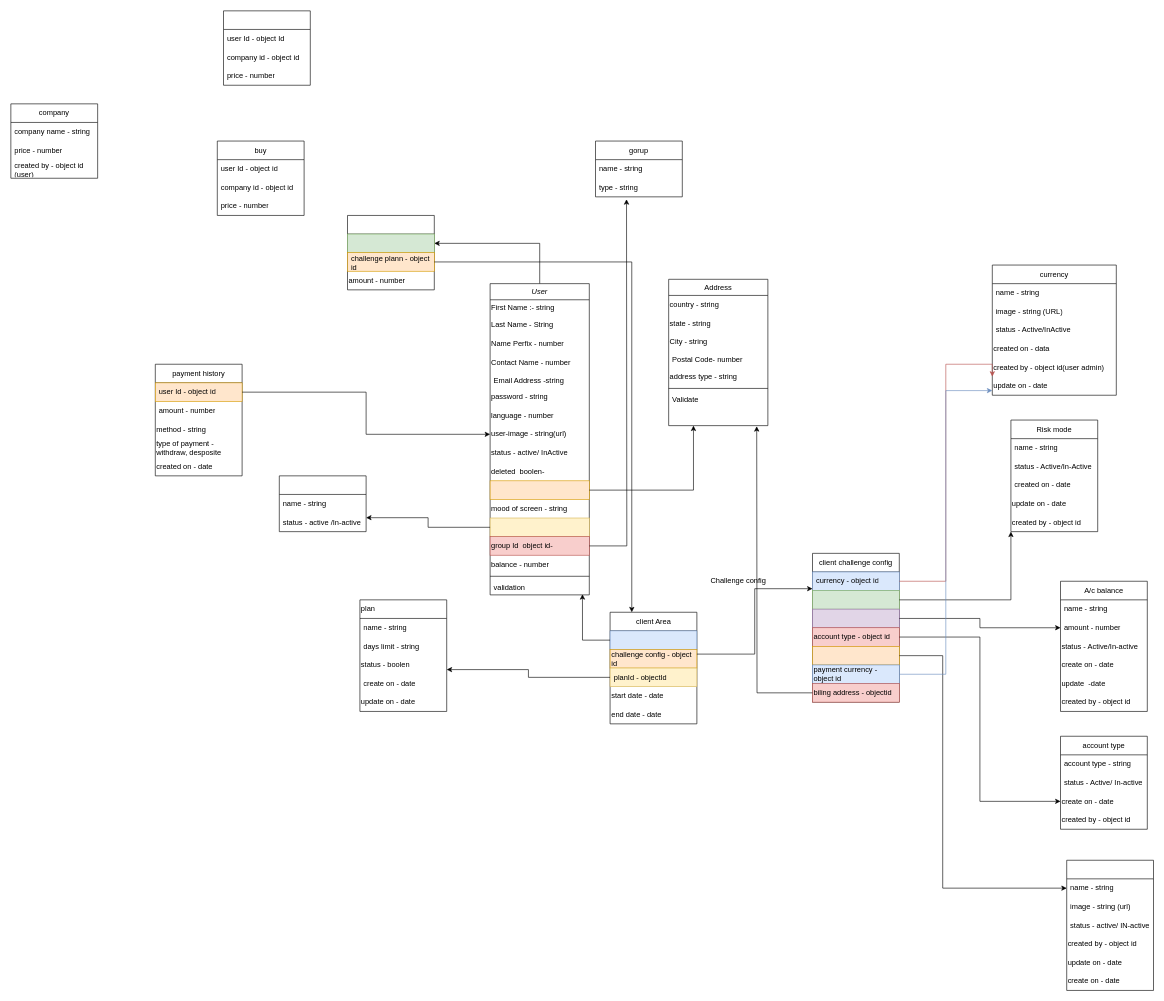
This 1164x1001 diagram has some shape labels left out. The box of each missing label's shape, as (x1, y1, x2, y2) in pixels:
account balance - Object id: (812, 609, 899, 628)
address - object id: (489, 480, 589, 499)
biling: (347, 215, 434, 290)
platform: (1066, 860, 1154, 990)
platform - object Id: (812, 646, 899, 665)
Risk mode - object id: (812, 590, 899, 609)
role: (279, 475, 366, 532)
sell: (223, 10, 310, 85)
user role - object id: (489, 517, 589, 537)
userId - object id: (347, 233, 434, 253)
userId - objectId: (609, 630, 697, 649)
